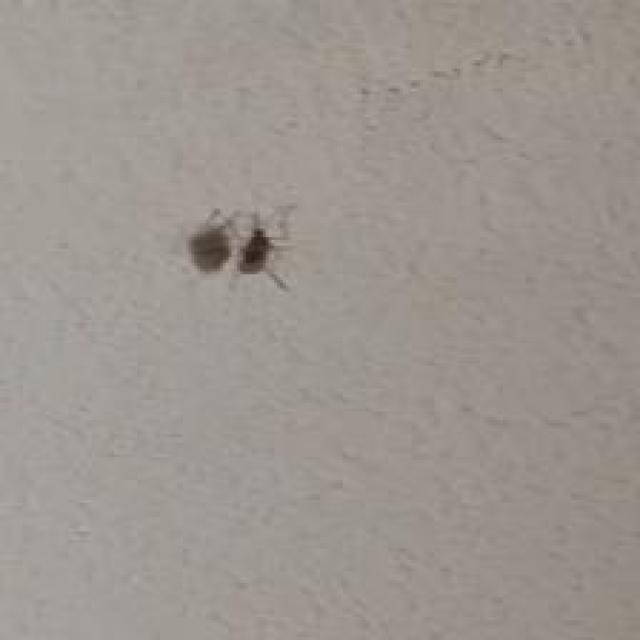Culex: (187, 206, 233, 274)
